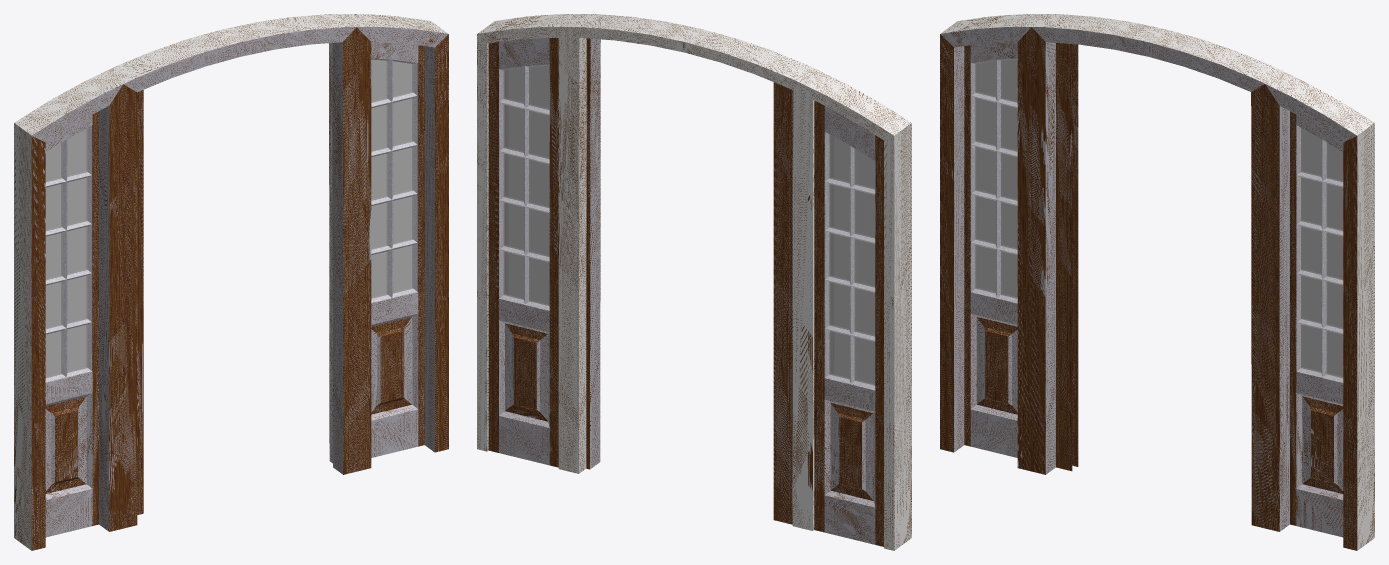
File: frame.dae
The picture shows the model from 3 angles, left to right: view 1: azimuth 30°, elevation 25°; view 2: azimuth 150°, elevation 25°; view 3: azimuth 330°, elevation 25°; orthographic projection.
Parts seen in each view (by area): view 1: group_0.079, group_0.081, group_0.087, group_6.013, group_0.076, group_1.062, group_0.080, group_1.055, group_6.012, group_5.048, group_1.073, group_6.015 (+41 smaller); view 2: group_0.079, group_0.081, group_0.087, group_5.062, group_1.062, group_6.013, group_1.066, group_6.012, group_1.055, group_0.076, group_0.080, group_6.025 (+44 smaller); view 3: group_0.079, group_0.081, group_0.087, group_5.048, group_1.062, group_0.080, group_6.013, group_0.076, group_6.012, group_1.055, group_5.062, group_6.022 (+42 smaller).
Part boxes in pixels (bbox=[...]): group_0.079: bbox=[14, 14, 448, 550]; group_0.081: bbox=[342, 27, 371, 474]; group_0.087: bbox=[109, 84, 137, 531]; group_6.013: bbox=[371, 42, 418, 457]; group_0.076: bbox=[31, 136, 45, 550]; group_1.062: bbox=[45, 115, 92, 537]; group_0.080: bbox=[435, 34, 448, 452]; group_1.055: bbox=[45, 125, 91, 382]; group_6.012: bbox=[371, 58, 417, 302]; group_5.048: bbox=[137, 90, 143, 514]; group_1.073: bbox=[92, 111, 98, 525]; group_6.015: bbox=[418, 45, 424, 446]; group_0.079: bbox=[477, 14, 911, 550]; group_0.081: bbox=[558, 27, 590, 473]; group_0.087: bbox=[792, 84, 812, 530]; group_5.062: bbox=[773, 82, 792, 524]; group_1.062: bbox=[824, 106, 875, 544]; group_6.013: bbox=[499, 38, 549, 465]; group_1.066: bbox=[814, 101, 824, 532]; group_6.012: bbox=[499, 64, 549, 310]; group_1.055: bbox=[825, 132, 875, 389]; group_0.076: bbox=[884, 136, 894, 550]; group_0.080: bbox=[477, 34, 487, 451]; group_6.025: bbox=[488, 42, 498, 452]; group_0.079: bbox=[940, 14, 1374, 550]; group_0.081: bbox=[1251, 84, 1279, 531]; group_0.087: bbox=[1017, 27, 1045, 474]; group_5.048: bbox=[1056, 43, 1072, 471]; group_1.062: bbox=[970, 42, 1017, 457]; group_0.080: bbox=[1343, 136, 1357, 550]; group_6.013: bbox=[1296, 115, 1343, 537]; group_0.076: bbox=[940, 34, 953, 452]; group_6.012: bbox=[1297, 125, 1343, 382]; group_1.055: bbox=[971, 58, 1017, 302]; group_5.062: bbox=[1072, 44, 1078, 466]; group_6.022: bbox=[1290, 111, 1296, 525].
Bounding box in the file's own units: 2.08 × 0.1524 × 2.18.
6 materials, 2 textured.
